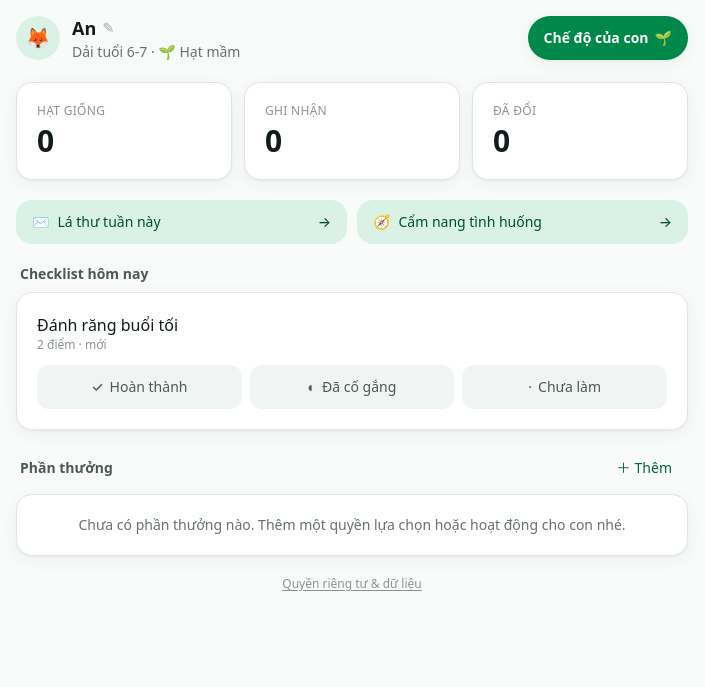
Test: ParentDashboard — parent self-regulation micro-pause › is dismissible
The image size is (705, 687).
Click the button "· Chưa làm" at (565, 387), box 462,365 -> 667,409
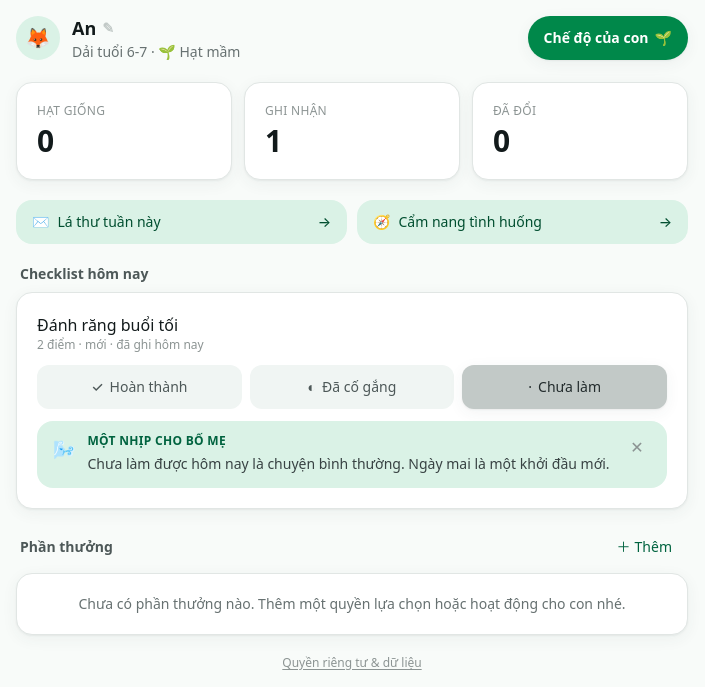
Click the button named "Đóng lời nhắc" at (637, 447), box 623,433 -> 651,461
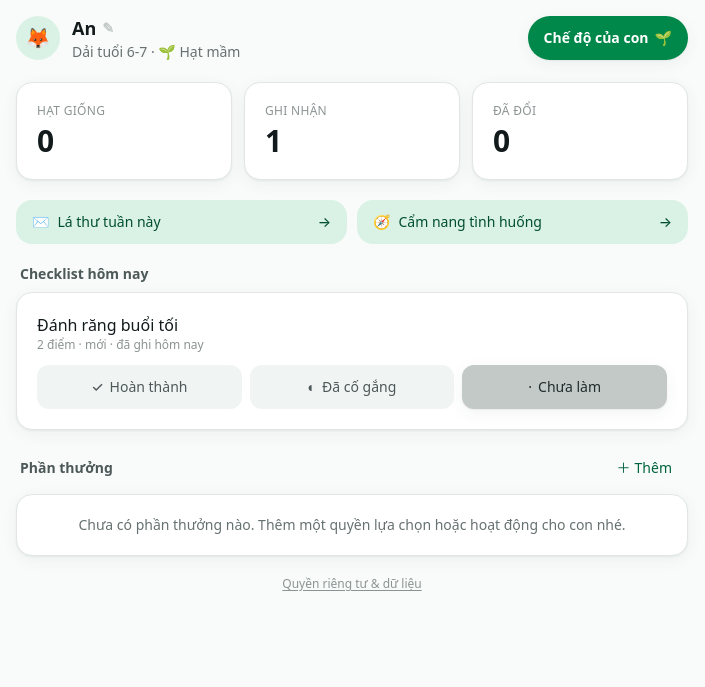
Expected: the text "Một nhịp cho bố mẹ" is gone
